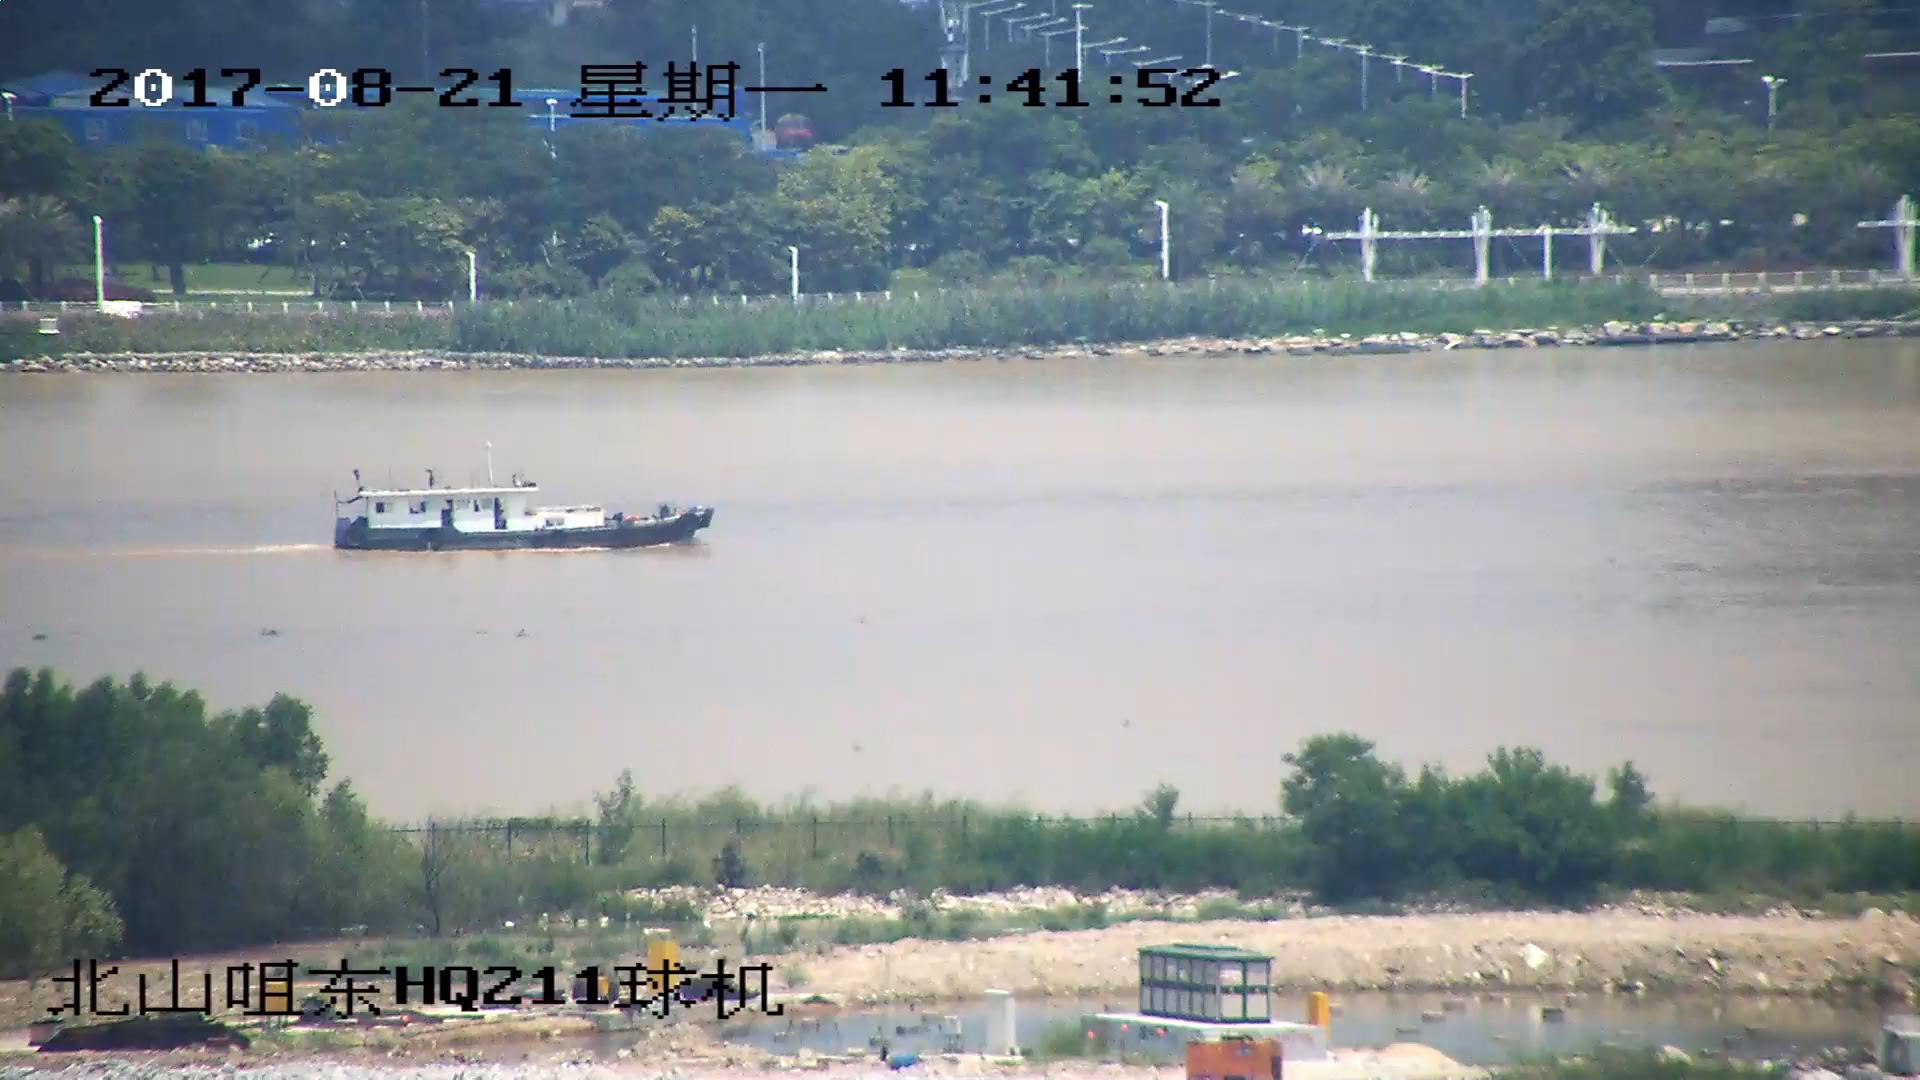fishing boat: (325, 450, 716, 555)
